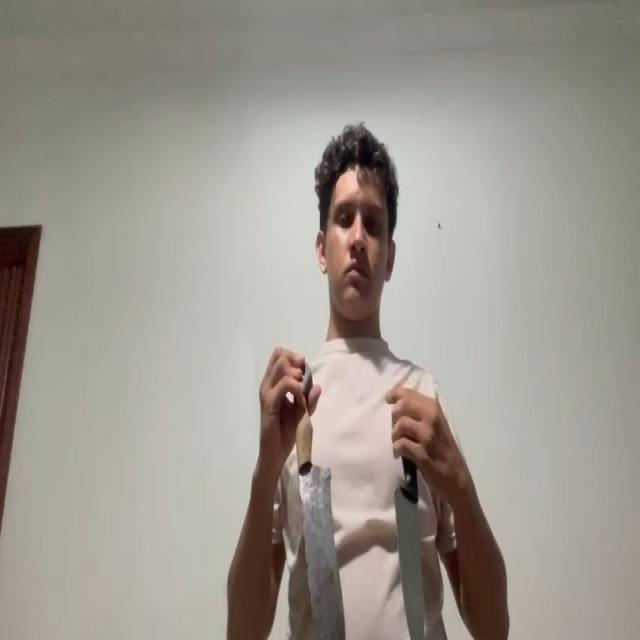knife: (300, 460, 346, 640)
